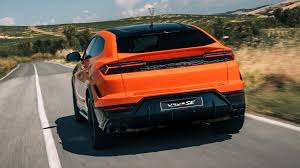car: (66, 22, 248, 141)
